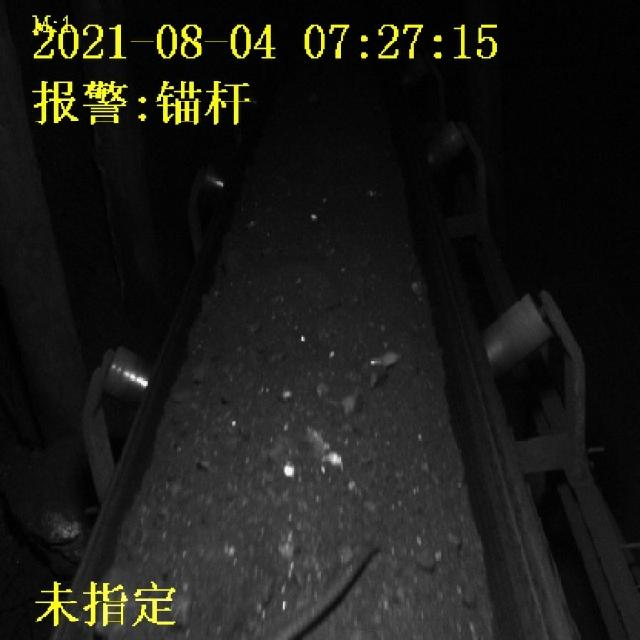bolt: (277, 544, 380, 640)
large_sized_coal: (268, 423, 344, 479)
